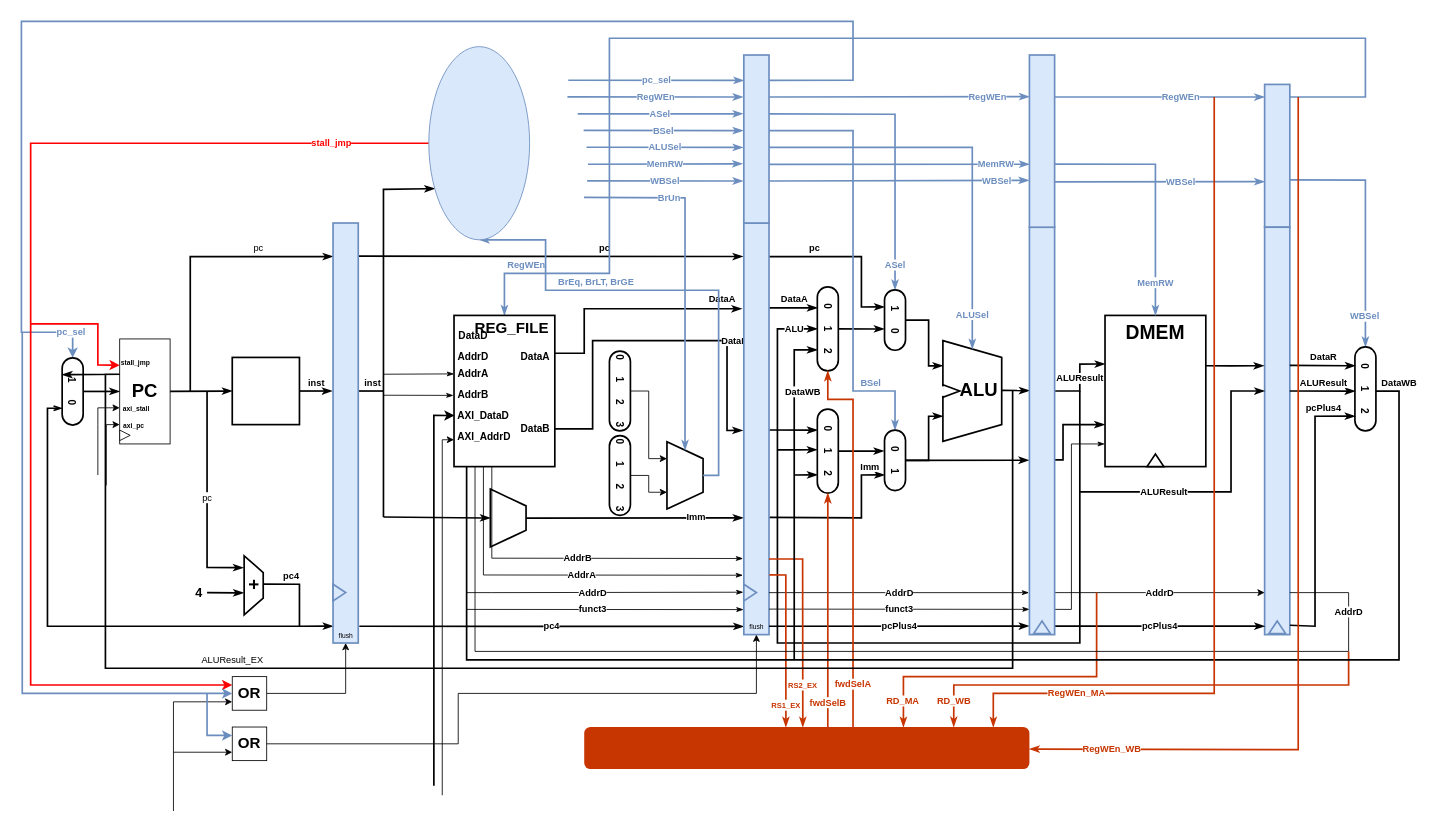
Image size: 1431x832. Some labels were removed from this diagram. The shapes that lost their labels are listed below. From the top down, each one's box as (x1, y1, x2, y2) in pixels, then its label:
(428, 46, 530, 240): CONTROL
(231, 356, 300, 425): IMEM
(1104, 314, 1206, 467): Addr DataR DataW funct3
(666, 441, 704, 509): Branch Comp
(489, 488, 527, 548): Imm Gen
(584, 727, 1029, 769): Forwarding Unit
